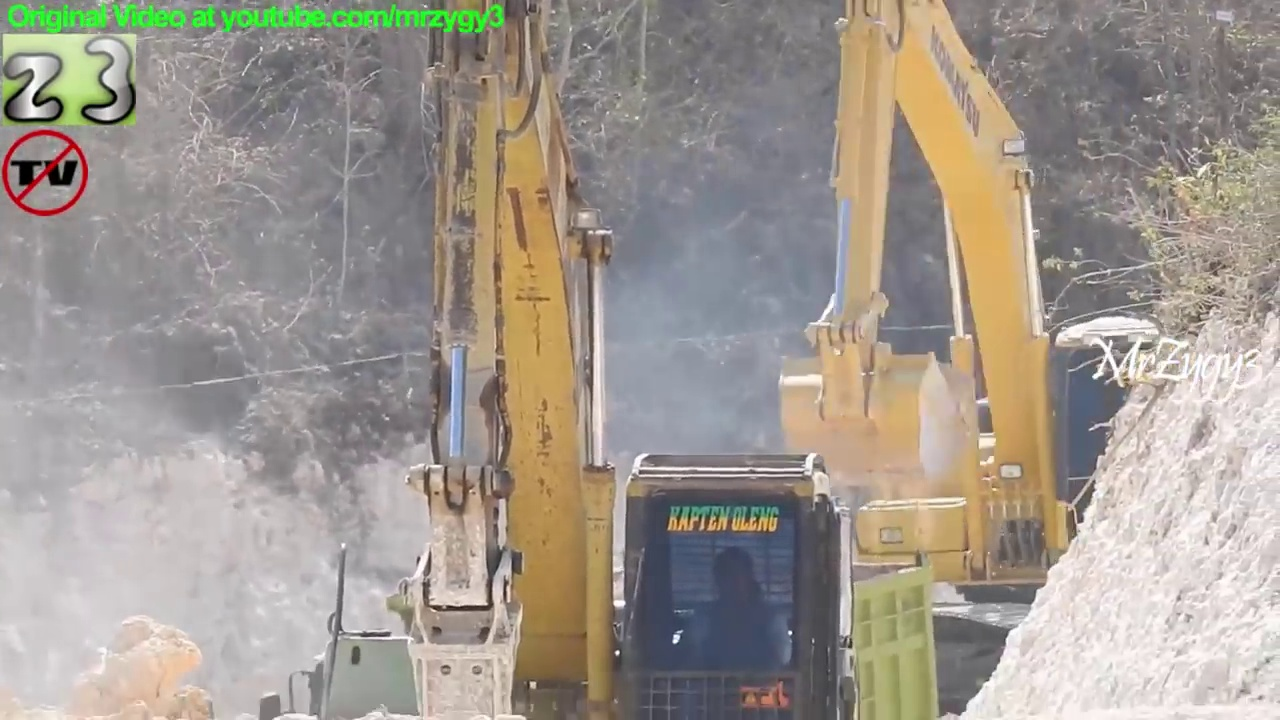excavator: (667, 1, 1226, 720), (379, 1, 871, 720)
truck: (384, 544, 954, 720)
